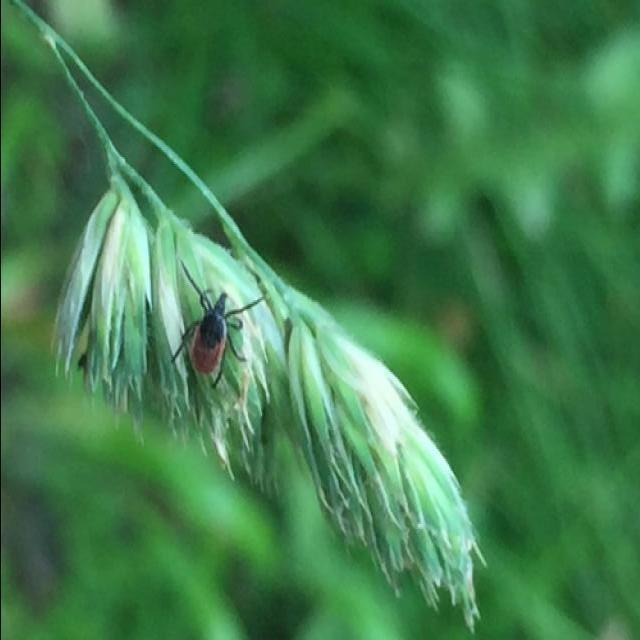Ixodes Ricinus-F: (172, 242, 262, 389)
